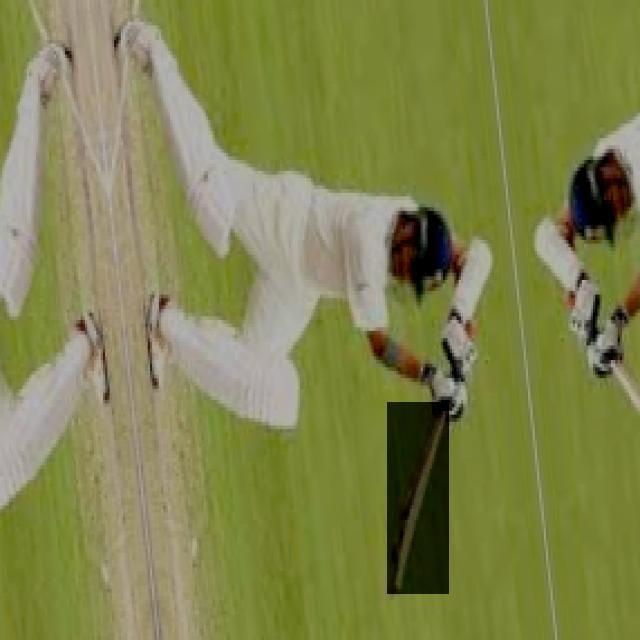bat: (387, 400, 447, 595)
